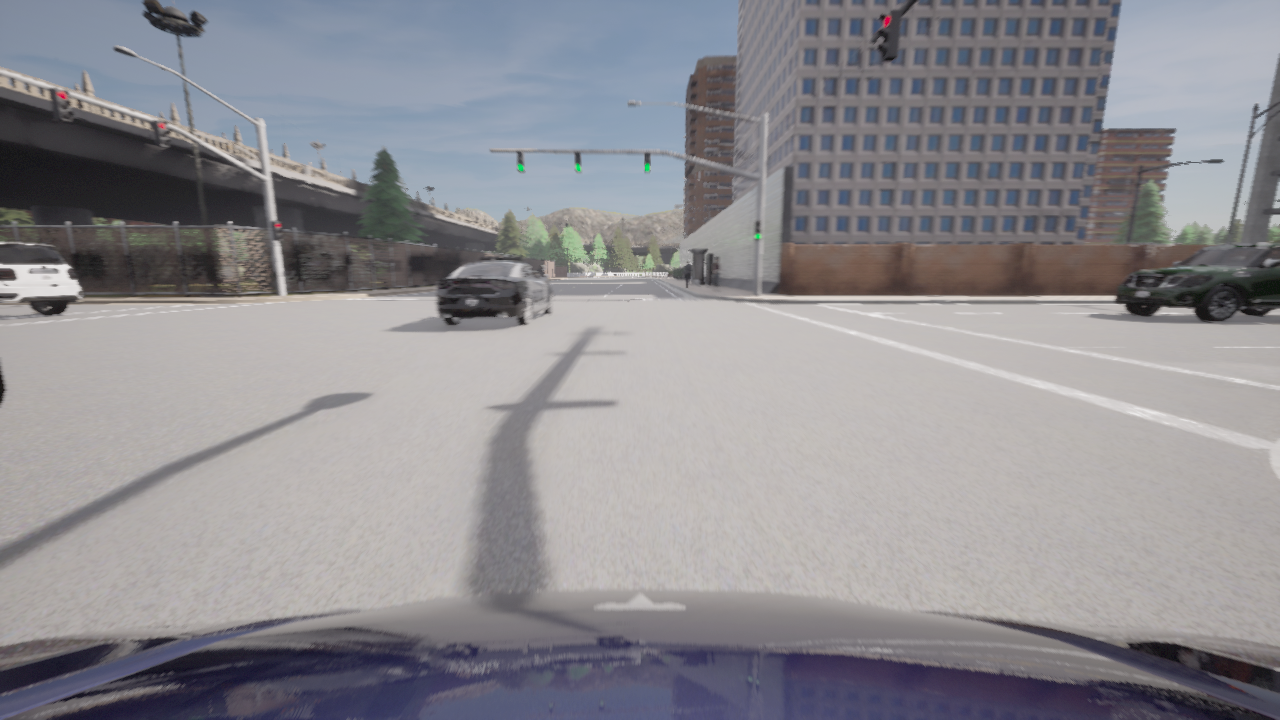cyclist: (0, 588, 1279, 719), (1115, 242, 1279, 321), (436, 255, 552, 325)
pedestrian: (713, 257, 722, 291), (682, 260, 691, 288)
